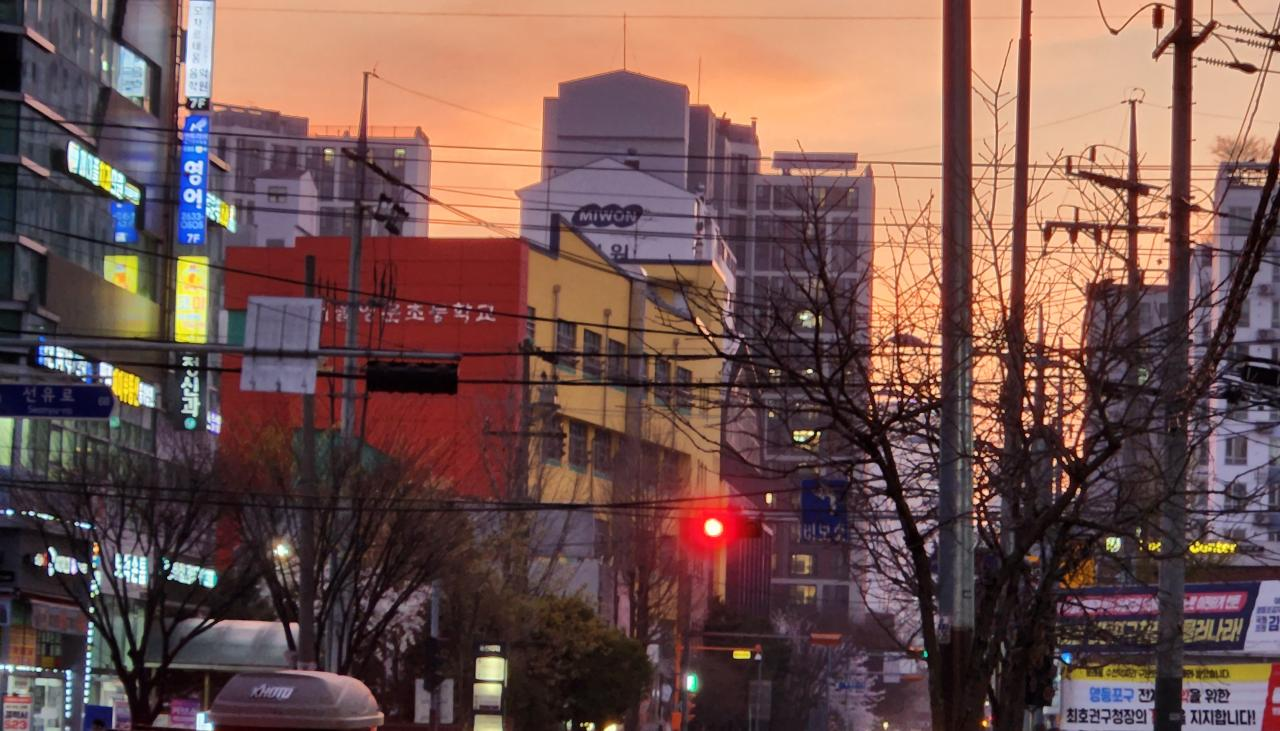Red Light: (701, 516, 726, 540)
